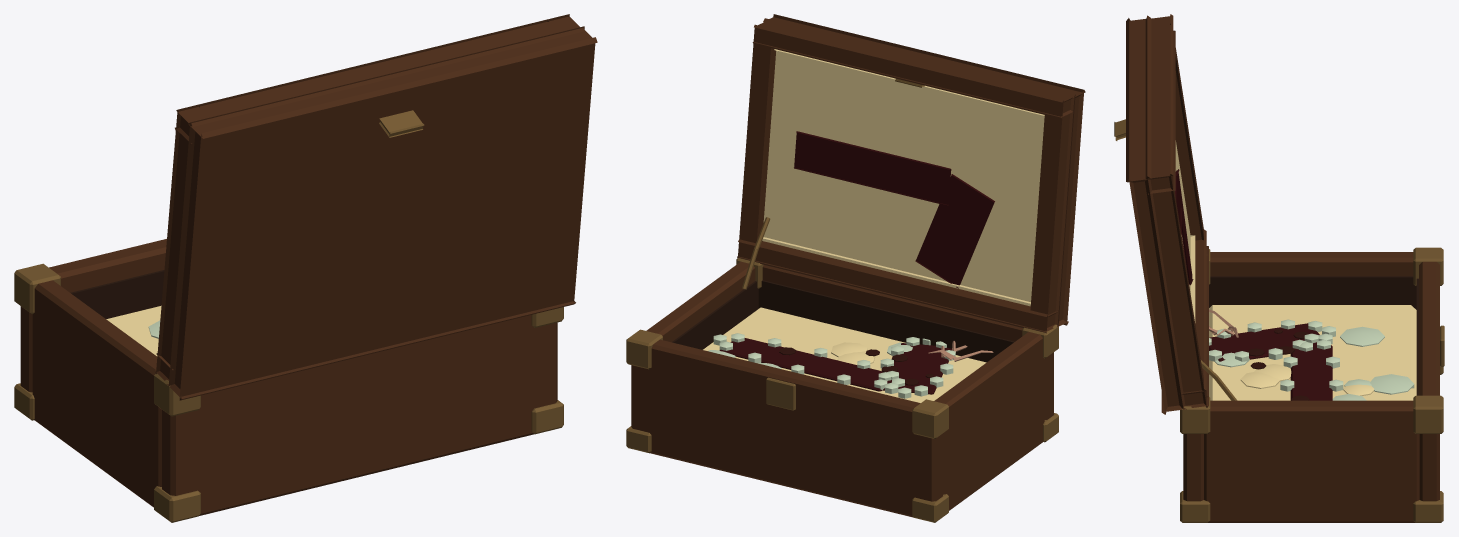
The model's file is e39_case.glb.
3 views of the same model, side by side, from view 1: azimuth 30°, elevation 25°; view 2: azimuth 150°, elevation 25°; view 3: azimuth 270°, elevation 25° (orthographic). The views are drawn at different scales.
Visible parts, largest first — view 1: teil0, teil8, teil1, teil2; view 2: teil0, teil2, teil5, teil1, teil8, teil3, teil4; view 3: teil0, teil2, teil1, teil8, teil5, teil3, teil4, teil6.
Boxes of the visible parts, <box> form: teil0: <box>20,14,597,515</box>; teil8: <box>14,110,563,522</box>; teil1: <box>70,270,164,318</box>; teil2: <box>106,305,161,356</box>; teil0: <box>631,14,1085,517</box>; teil2: <box>703,49,1044,402</box>; teil5: <box>719,131,994,394</box>; teil1: <box>672,280,1014,362</box>; teil8: <box>626,78,1058,522</box>; teil3: <box>708,333,955,398</box>; teil4: <box>831,342,875,364</box>; teil0: <box>1126,14,1439,522</box>; teil2: <box>1175,140,1416,400</box>; teil1: <box>1209,276,1418,395</box>; teil8: <box>1114,119,1444,522</box>; teil5: <box>1175,169,1332,400</box>; teil3: <box>1209,319,1414,400</box>; teil4: <box>1240,364,1373,395</box>; teil6: <box>1247,329,1309,400</box>.
Size of the model in its own units: 0.326 by 0.3326 by 0.2834.
